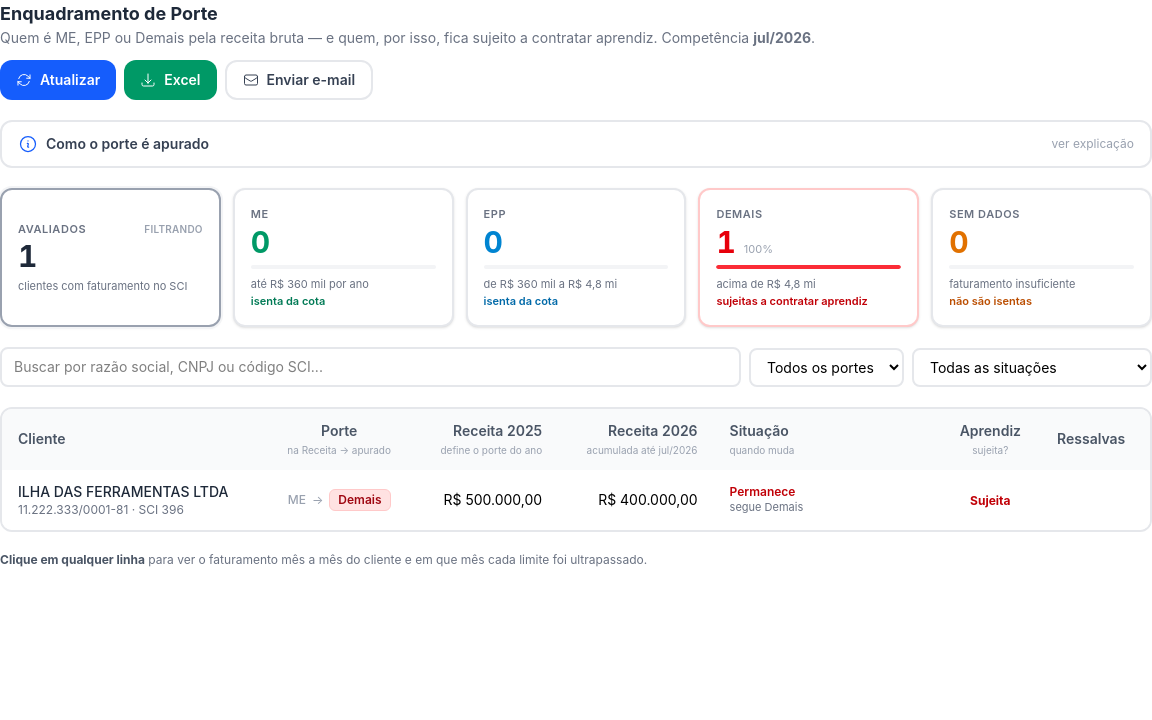
Test case: CotaAprendizagemTab › ao abrir o cliente, a divergência com a Receita continua visível
Click the text "ILHA DAS FERRAMENTAS LTDA". click: click(134, 492)
box: [18,482,249,502]
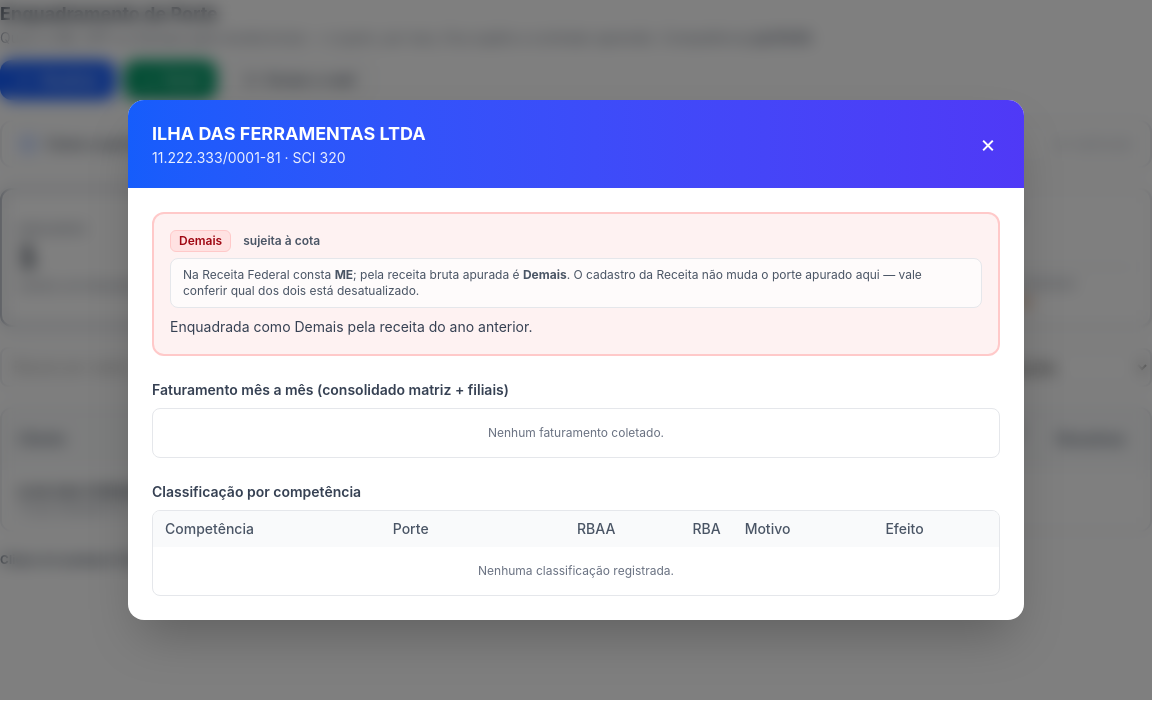
Expected: the text "Na Receita Federal consta" is shown, [183,267,331,282]
Expected: the text "vale conferir qual dos dois está desatualizado" is shown, [183,267,922,298]
